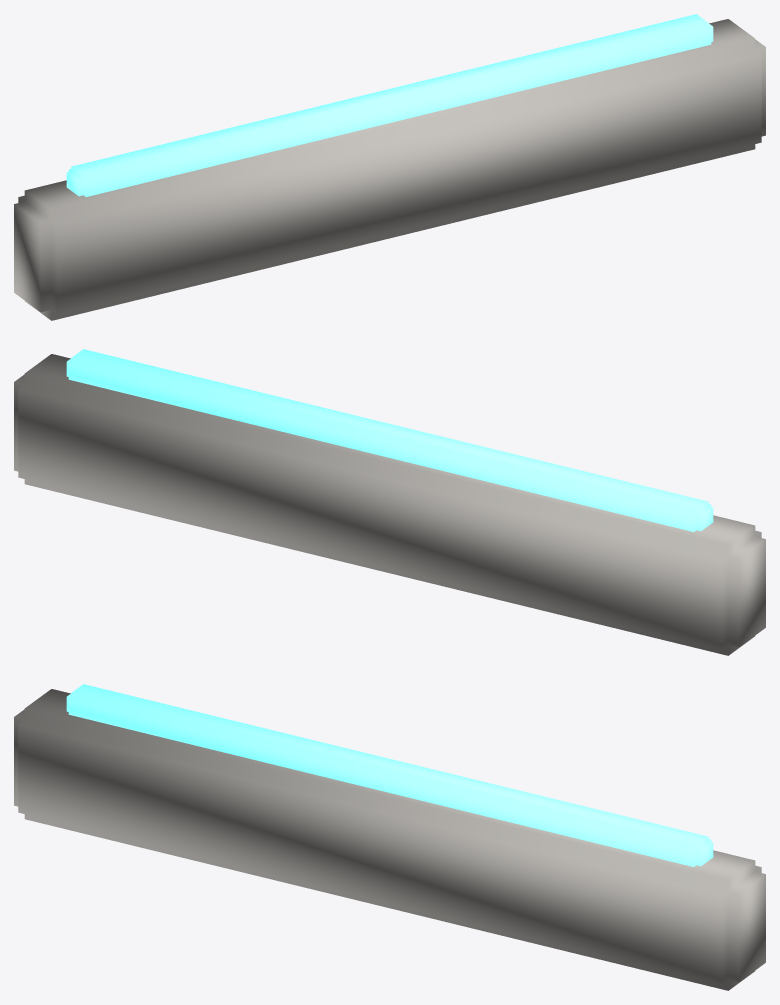
Rendered from radar_array.glb.
The picture shows the model from 3 angles, top to bottom: view 1: azimuth 30°, elevation 25°; view 2: azimuth 150°, elevation 25°; view 3: azimuth 330°, elevation 25°; orthographic projection.
Parts seen in each view (by area): view 1: radar_array; view 2: radar_array; view 3: radar_array.
Part boxes in pixels (left/top/right/bottom): radar_array: left=14, top=14, right=765, bottom=320; radar_array: left=14, top=349, right=765, bottom=655; radar_array: left=14, top=684, right=765, bottom=990.
Bounding box in the file's own units: 0.48 × 0.0825 × 0.045.
